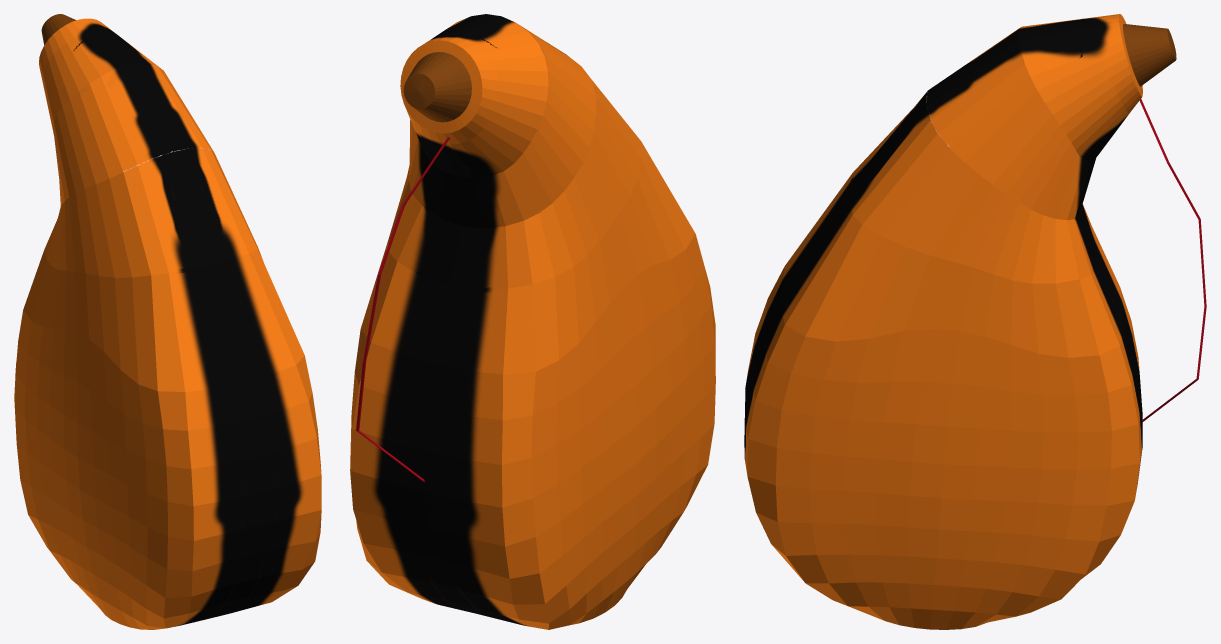
Rendered from BotaBag.glb.
The picture shows the model from 3 angles, left to right: view 1: azimuth 30°, elevation 25°; view 2: azimuth 150°, elevation 25°; view 3: azimuth 270°, elevation 25°; orthographic projection. The views are drawn at different scales.
Parts seen in each view (by area): view 1: Sphere; view 2: Sphere, Plane; view 3: Sphere, Plane.
Part boxes in pixels (x1,y1,x2,y2): Sphere: (14, 14, 321, 629); Sphere: (350, 14, 715, 629); Plane: (356, 137, 449, 481); Sphere: (744, 14, 1176, 629); Plane: (1139, 99, 1206, 422).
Size of the model in its own units: 1.03 by 2.91 by 2.1.
2 materials, 2 textured.
